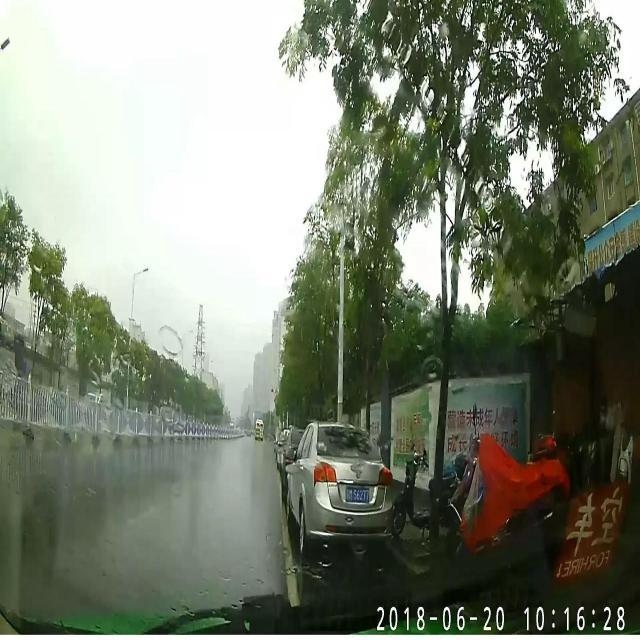car: (284, 421, 394, 556), (280, 423, 314, 490)
